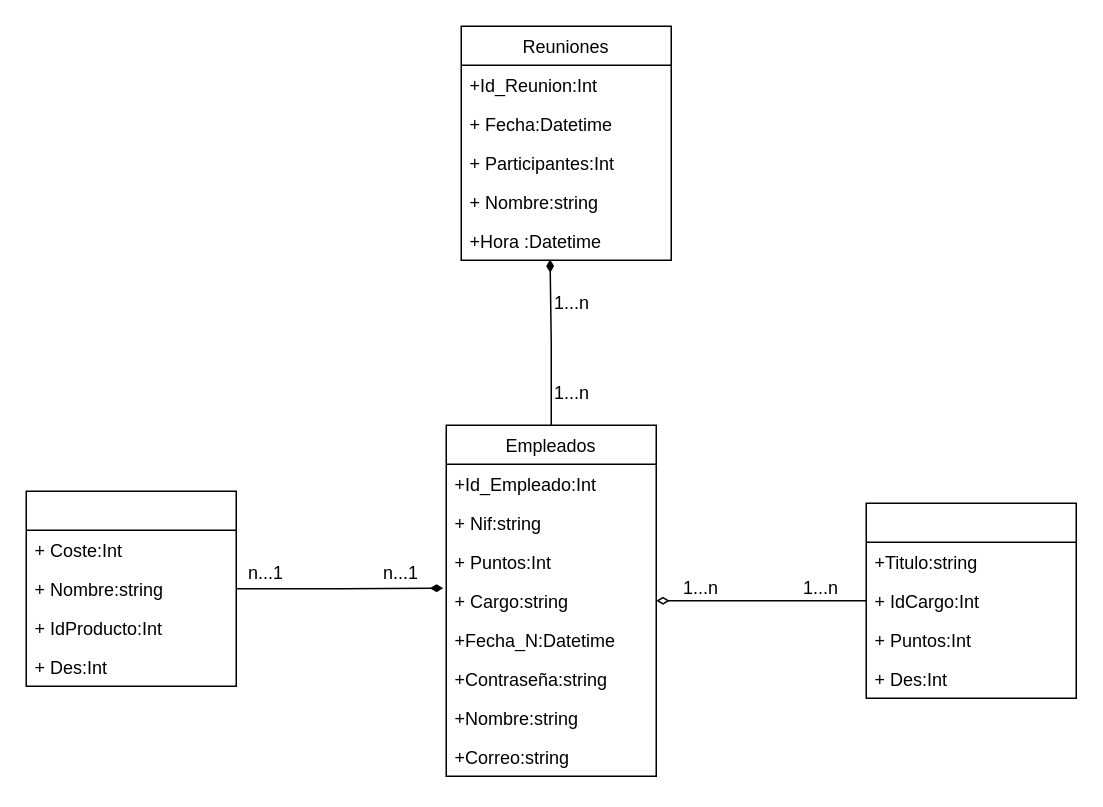
The diagram is 1103 pixels wide and 807 high, and some of its shapes have lost their labels. The shapes that lost their labels are listed below. From the top down, each one's box as (x1, y1, x2, y2) in pixels, then its label:
(25, 490, 236, 686): Tienda
(865, 502, 1076, 698): Tarea
